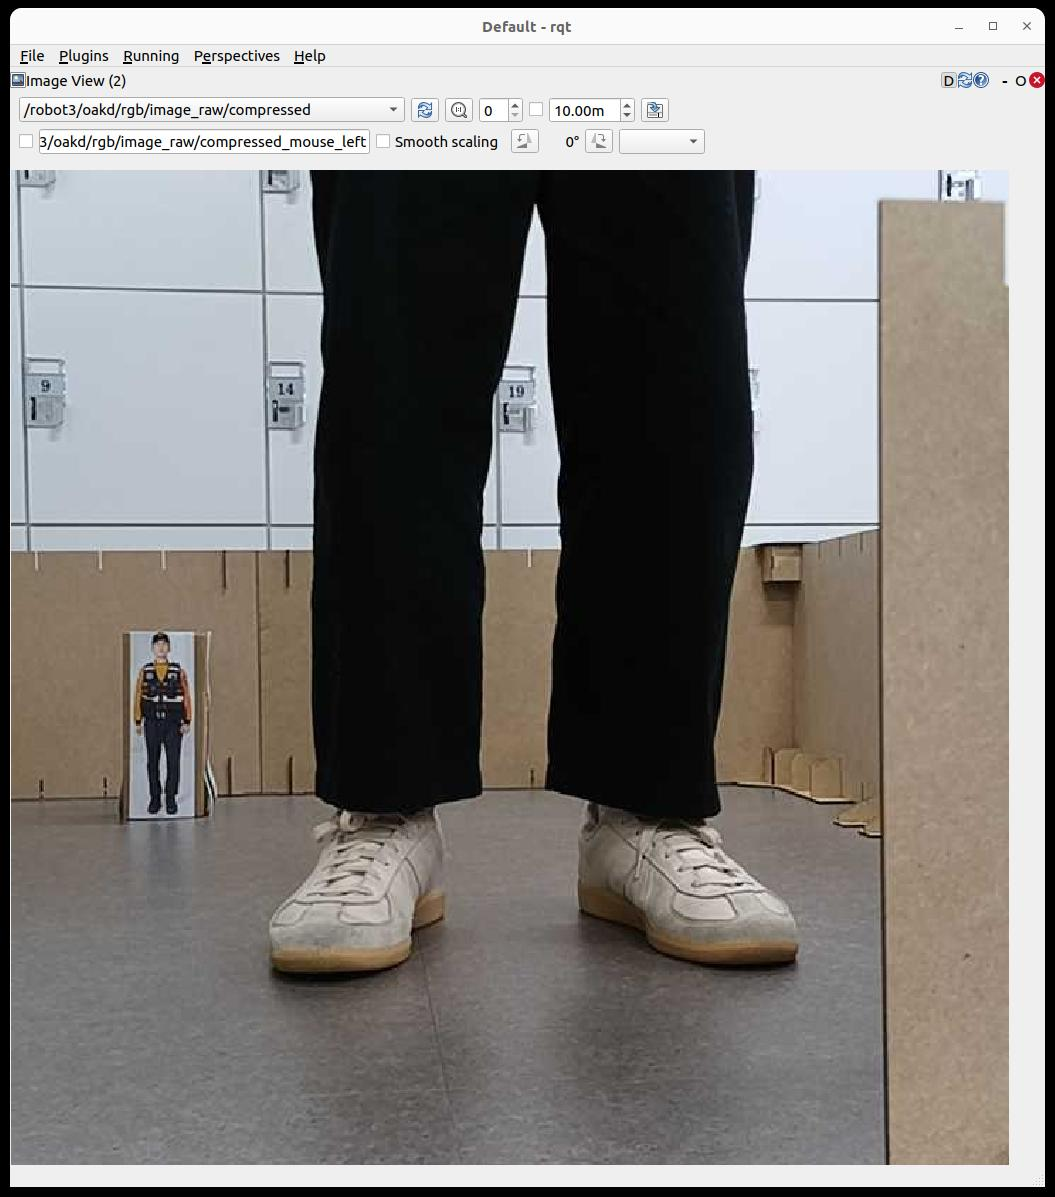Responder: (133, 634, 190, 814)
